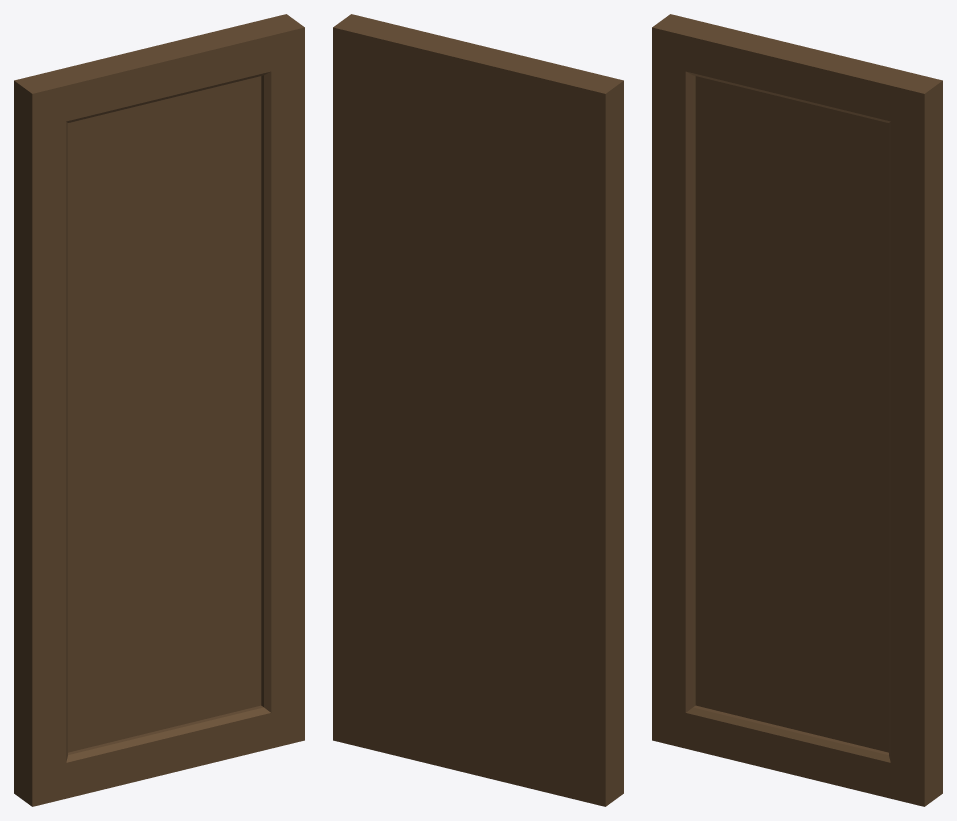
The model's file is door_L.fbx.
3 renders of one model, left to right at view 1: azimuth 30°, elevation 25°; view 2: azimuth 150°, elevation 25°; view 3: azimuth 330°, elevation 25°, orthographic.
Parts seen in each view (by area): view 1: door_L; view 2: door_L; view 3: door_L.
Part boxes in pixels (x1,y1,x2,y2): door_L: (14, 14, 304, 806); door_L: (333, 14, 623, 806); door_L: (652, 14, 942, 806).
Size of the model in its own units: 120 by 300 by 14.
